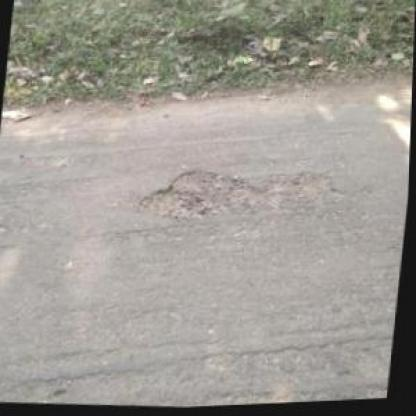pothole: (130, 158, 344, 234)
